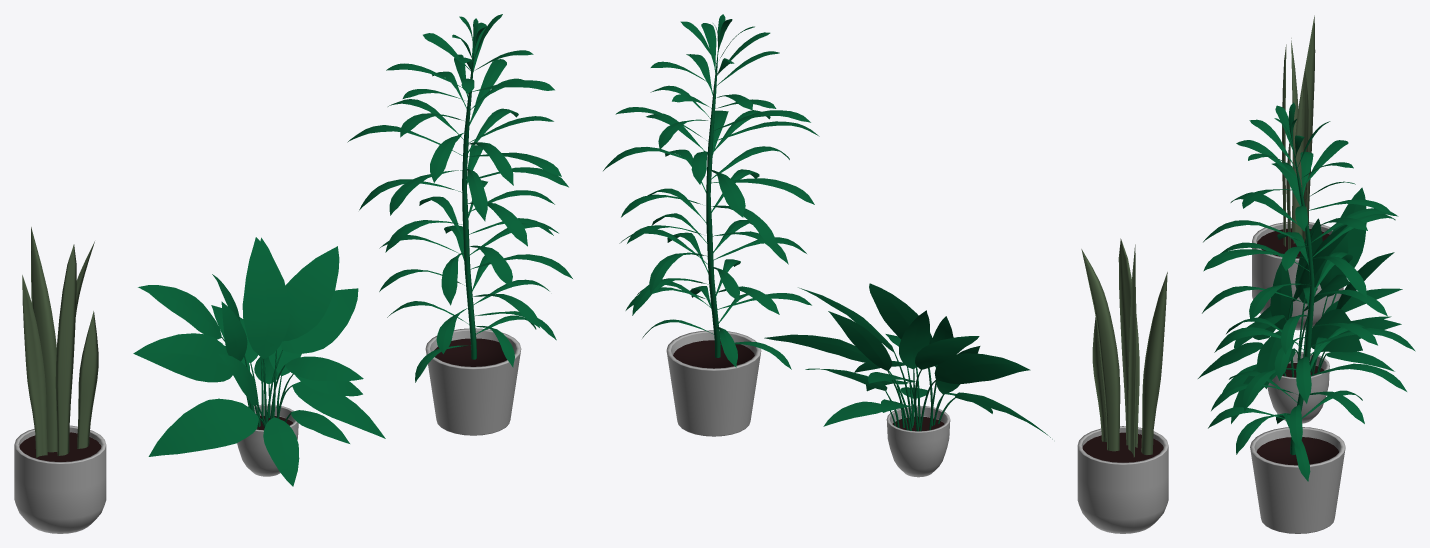
File: grass.gltf
3 views of the same model, side by side, from view 1: azimuth 30°, elevation 25°; view 2: azimuth 150°, elevation 25°; view 3: azimuth 270°, elevation 25° (orthographic).
Parts seen in each view (by area): view 1: Object_10, Object_14, Object_6, Object_4, Object_12, Object_8, Object_13, Object_5; view 2: Object_14, Object_10, Object_6, Object_4, Object_12, Object_8, Object_13, Object_5; view 3: Object_14, Object_10, Object_12, Object_6, Object_4, Object_8, Object_13, Object_5.
Part boxes in pixels (box(x1,y1,x2,y2)): Object_10: box(133, 237, 385, 486); Object_14: box(347, 14, 572, 382); Object_6: box(22, 227, 98, 457); Object_4: box(14, 425, 106, 533); Object_12: box(425, 328, 521, 435); Object_8: box(237, 404, 298, 476); Object_13: box(434, 338, 506, 366); Object_5: box(19, 432, 101, 461); Object_14: box(603, 14, 819, 369); Object_10: box(764, 283, 1052, 439); Object_6: box(1081, 238, 1167, 457); Object_4: box(1077, 426, 1168, 533); Object_12: box(666, 330, 761, 436); Object_8: box(886, 405, 950, 477); Object_13: box(673, 340, 754, 368); Object_5: box(1082, 432, 1163, 462); Object_14: box(1202, 102, 1415, 481); Object_10: box(1198, 187, 1402, 423); Object_12: box(1250, 427, 1345, 533); Object_6: box(1282, 15, 1315, 249); Object_4: box(1252, 221, 1343, 330); Object_8: box(1267, 352, 1329, 423); Object_13: box(1256, 437, 1338, 465); Object_5: box(1257, 228, 1329, 258).
Size of the model in its own units: 13.23 by 9.45 by 4.6.
